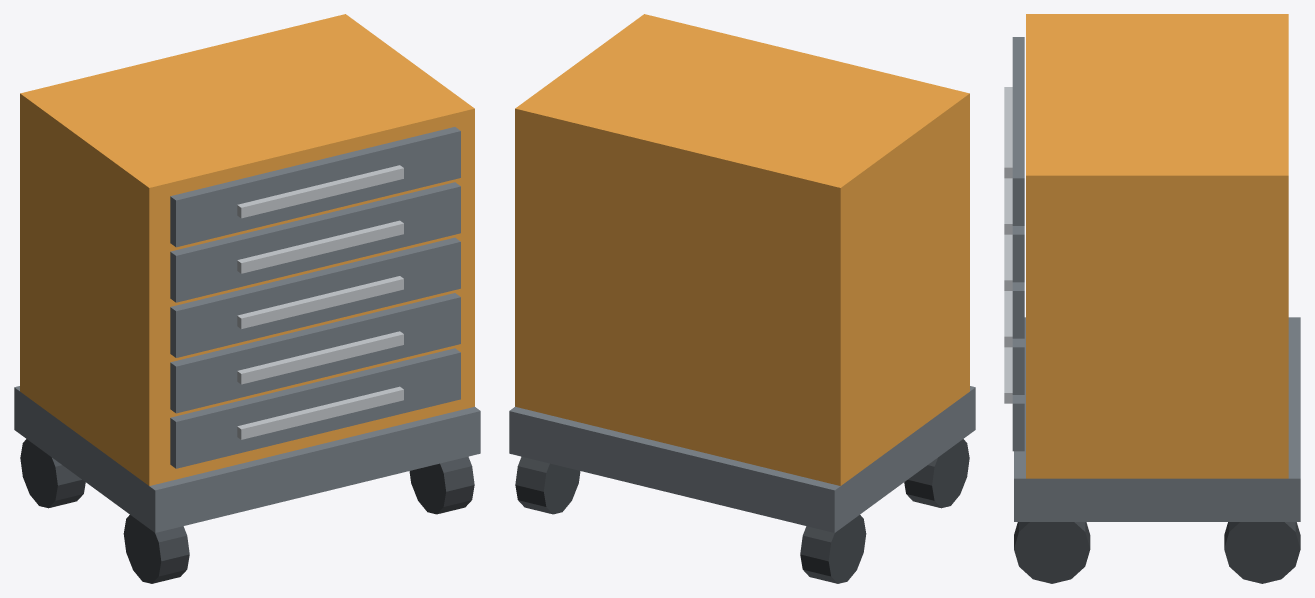
File: mech-hangar-and-battle-frames-tool-chest-49ce24bf__26968.glb
3 renders of one model, left to right at view 1: azimuth 30°, elevation 25°; view 2: azimuth 150°, elevation 25°; view 3: azimuth 270°, elevation 25°, orthographic.
Visible parts, largest first — view 1: tool-chest; view 2: tool-chest; view 3: tool-chest.
Part boxes in pixels (x1,y1,x2,y2): tool-chest: (14, 14, 480, 583); tool-chest: (509, 14, 975, 583); tool-chest: (1004, 14, 1300, 583).
Bounding box in the file's own units: 0.8 × 0.95 × 0.62.
